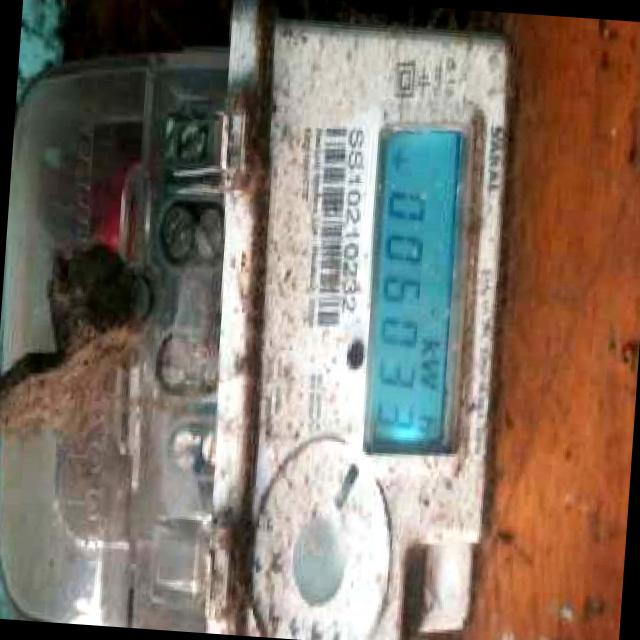LCD: (356, 112, 480, 460)
